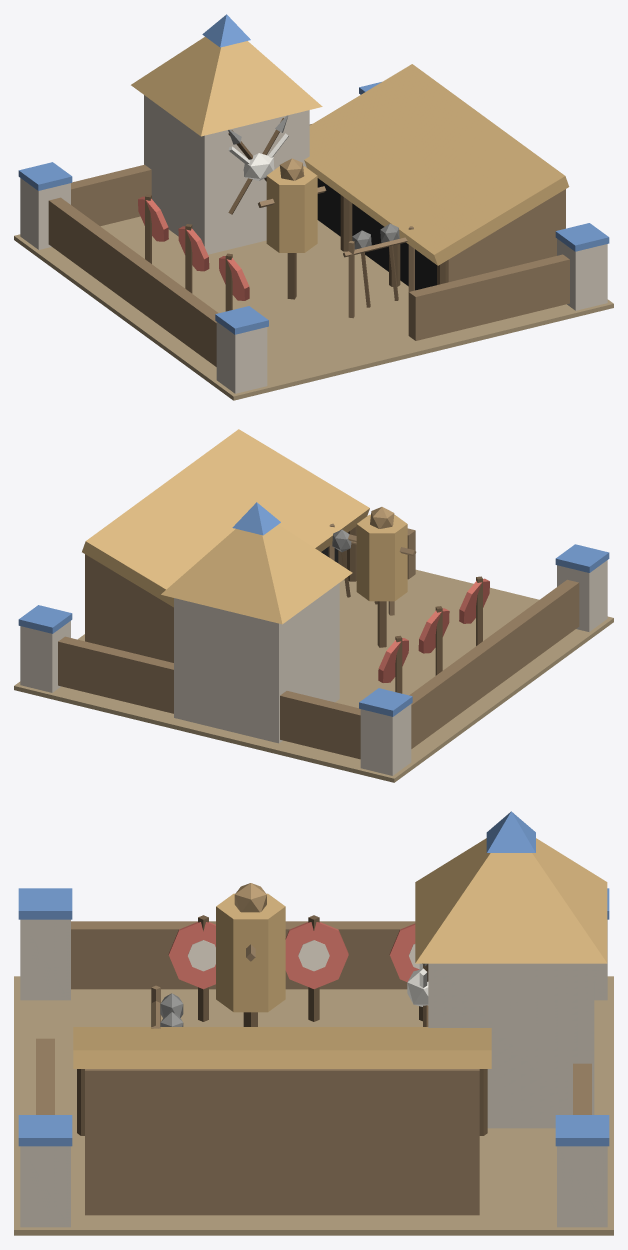
The model's file is barracks.glb.
3 renders of one model, top to bottom at view 1: azimuth 30°, elevation 25°; view 2: azimuth 150°, elevation 25°; view 3: azimuth 270°, elevation 25°, orthographic. The views are drawn at different scales.
Visible parts, largest first — view 1: Barracks_ShedThatchRoof.001, Barracks_Yard.001, Barracks_Tower.001, Barracks_TowerRoof.001, Barracks_Fence_W.001, Barracks_Fence_S.001, Barracks_ShedGable_S.001, Barracks_DummyTorso.001, Barracks_Fence_NW.001, Barracks_Pillar_SW.001, Barracks_ShedVoid.001, Barracks_Pillar_SE.001 (+11 smaller); view 2: Barracks_Yard.001, Barracks_ShedThatchRoof.001, Barracks_Tower.001, Barracks_TowerRoof.001, Barracks_Fence_W.001, Barracks_Fence_NE.001, Barracks_ShedGable_N.001, Barracks_Fence_NW.001, Barracks_DummyTorso.001, Barracks_Pillar_NW.001, Barracks_Pillar_NE.001, Barracks_Pillar_SW.001 (+8 smaller); view 3: Barracks_ShedBackWall.001, Barracks_Yard.001, Barracks_TowerRoof.001, Barracks_Tower.001, Barracks_ShedThatchRoof.001, Barracks_Fence_W.001, Barracks_DummyTorso.001, Barracks_Pillar_NE.001, Barracks_Pillar_SE.001, Barracks_Pillar_SW.001, Barracks_ShieldTarget_1.001, Barracks_ShieldTarget_0.001 (+13 smaller).
Boxes of the visible parts, x1=… form: Barracks_ShedThatchRoof.001: x1=304, y1=64, x2=569, y2=265; Barracks_Yard.001: x1=14, y1=216, x2=613, y2=400; Barracks_Tower.001: x1=144, y1=95, x2=309, y2=254; Barracks_TowerRoof.001: x1=131, y1=37, x2=322, y2=136; Barracks_Fence_W.001: x1=48, y1=197, x2=218, y2=366; Barracks_Fence_S.001: x1=408, y1=254, x2=569, y2=340; Barracks_ShedGable_S.001: x1=448, y1=193, x2=559, y2=281; Barracks_DummyTorso.001: x1=266, y1=166, x2=317, y2=252; Barracks_Fence_NW.001: x1=71, y1=164, x2=151, y2=226; Barracks_Pillar_SW.001: x1=216, y1=322, x2=267, y2=393; Barracks_ShedVoid.001: x1=317, y1=178, x2=436, y2=290; Barracks_Pillar_SE.001: x1=557, y1=239, x2=607, y2=310; Barracks_Yard.001: x1=14, y1=569, x2=613, y2=782; Barracks_ShedThatchRoof.001: x1=82, y1=429, x2=369, y2=607; Barracks_Tower.001: x1=174, y1=583, x2=339, y2=743; Barracks_TowerRoof.001: x1=161, y1=524, x2=352, y2=624; Barracks_Fence_W.001: x1=409, y1=579, x2=579, y2=748; Barracks_Fence_NE.001: x1=58, y1=636, x2=173, y2=713; Barracks_ShedGable_N.001: x1=93, y1=561, x2=173, y2=662; Barracks_Fence_NW.001: x1=280, y1=691, x2=360, y2=759; Barracks_DummyTorso.001: x1=356, y1=514, x2=407, y2=601; Barracks_Pillar_NW.001: x1=360, y1=704, x2=411, y2=775; Barracks_Pillar_NE.001: x1=20, y1=621, x2=70, y2=692; Barracks_Pillar_SW.001: x1=557, y1=560, x2=607, y2=631; Barracks_ShedBackWall.001: x1=85, y1=1069, x2=479, y2=1215; Barracks_Yard.001: x1=14, y1=976, x2=613, y2=1235; Barracks_TowerRoof.001: x1=415, y1=838, x2=607, y2=963; Barracks_Tower.001: x1=428, y1=963, x2=594, y2=1128; Barracks_ShedThatchRoof.001: x1=73, y1=1027, x2=491, y2=1068; Barracks_Fence_W.001: x1=71, y1=921, x2=415, y2=989; Barracks_DummyTorso.001: x1=216, y1=893, x2=285, y2=1012; Barracks_Pillar_NE.001: x1=557, y1=1146, x2=607, y2=1227; Barracks_Pillar_SE.001: x1=20, y1=1146, x2=70, y2=1227; Barracks_Pillar_SW.001: x1=20, y1=919, x2=70, y2=1000; Barracks_ShieldTarget_1.001: x1=285, y1=922, x2=348, y2=988; Barracks_ShieldTarget_0.001: x1=168, y1=922, x2=215, y2=989.
Size of the model in its own units: 3.8 by 2.01 by 3.8.
